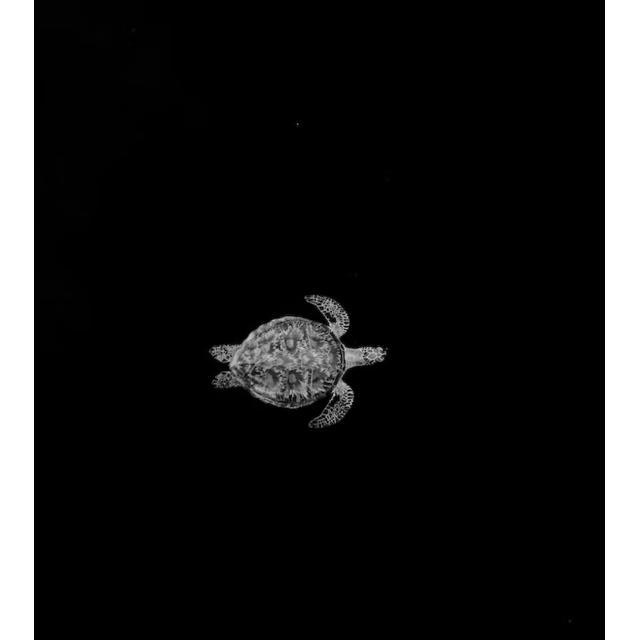turtle: (209, 294, 387, 429)
